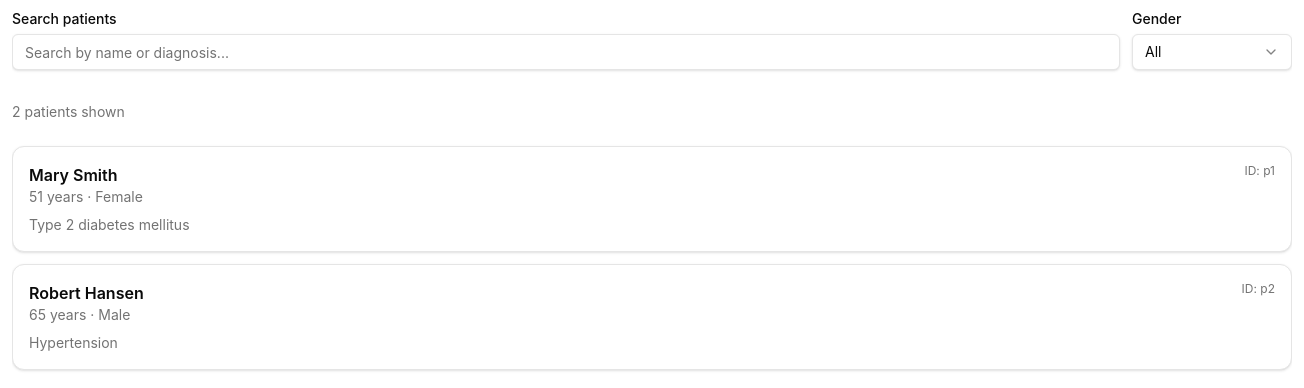
Test: PatientList › filters patients by search text
Type "hansen" into the field labelled "Search patients" at (566, 52), box [12, 34, 1120, 70]
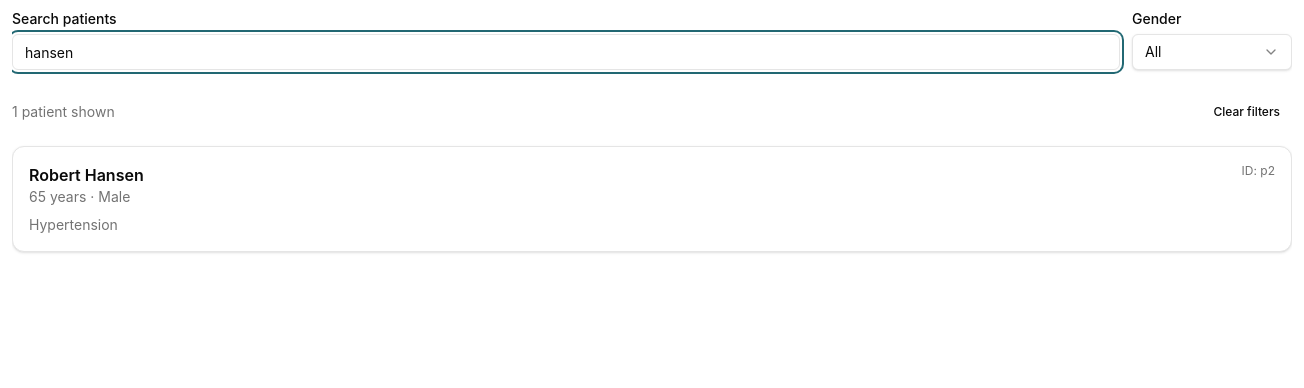
Expected: the heading "Robert Hansen" is shown, [29, 163, 144, 187]
Result: the link "Mary Smith" is gone
